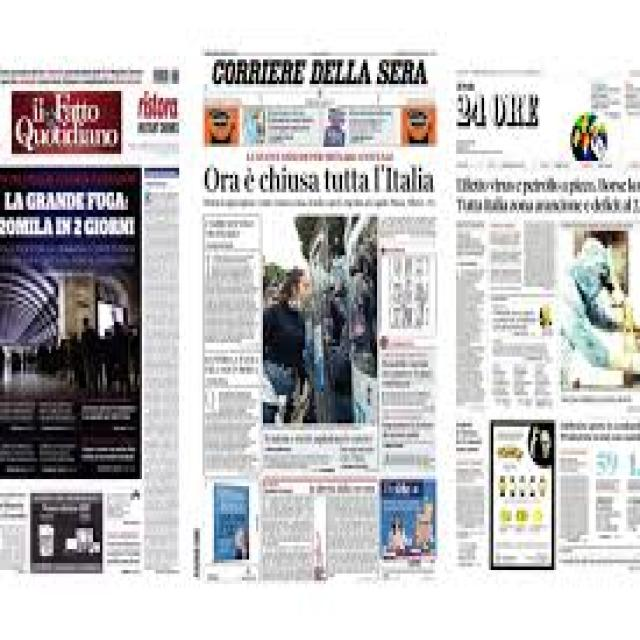paper: (0, 39, 640, 572)
